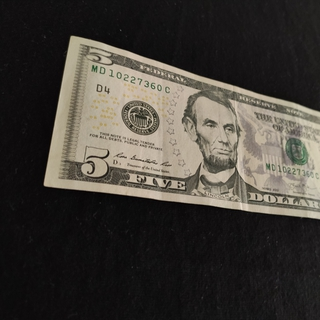5USDFront: (43, 35, 320, 226)
